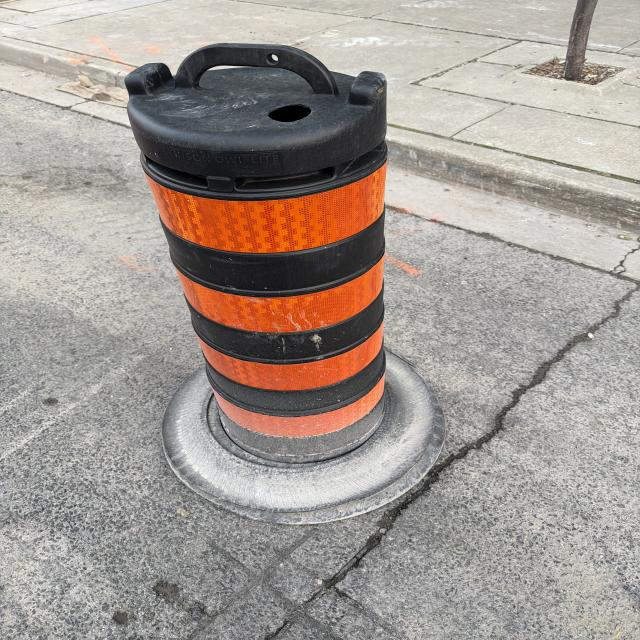Teraffic Barrel: (125, 44, 444, 521)
